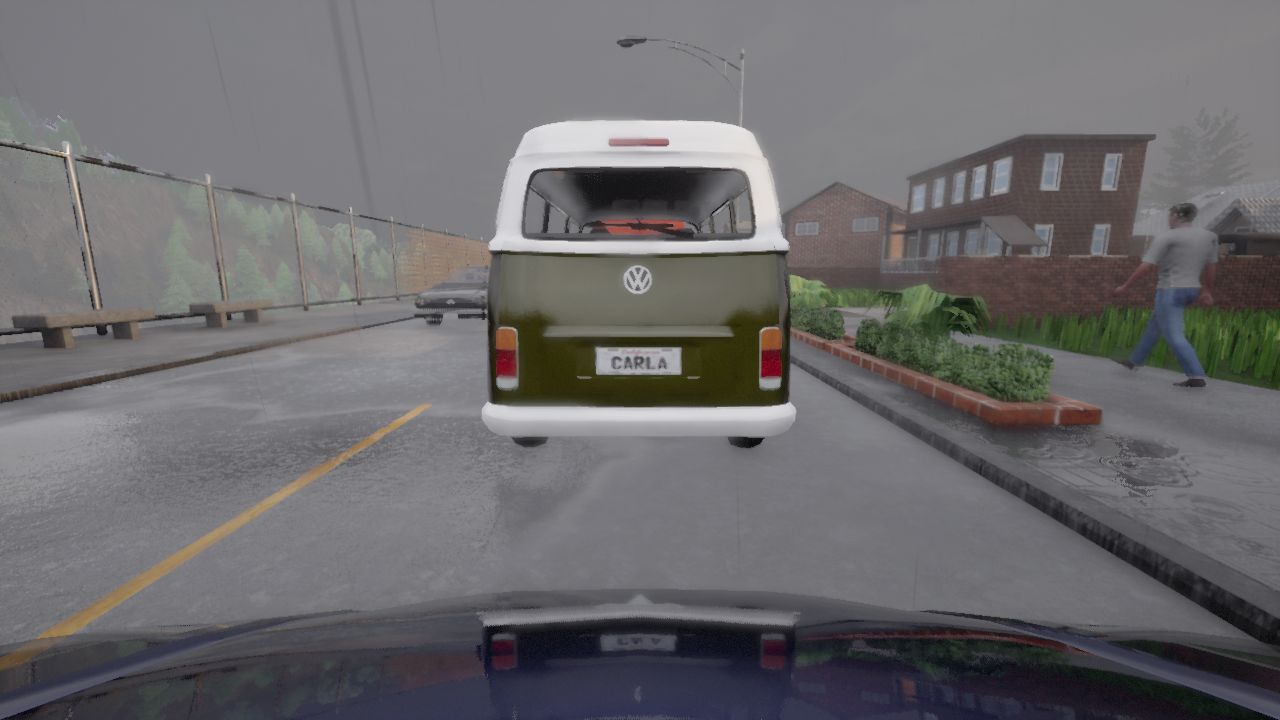cyclist: (0, 588, 1279, 719), (481, 120, 795, 448), (411, 266, 489, 325), (1217, 233, 1279, 255)
pedestrian: (1110, 202, 1218, 387)
